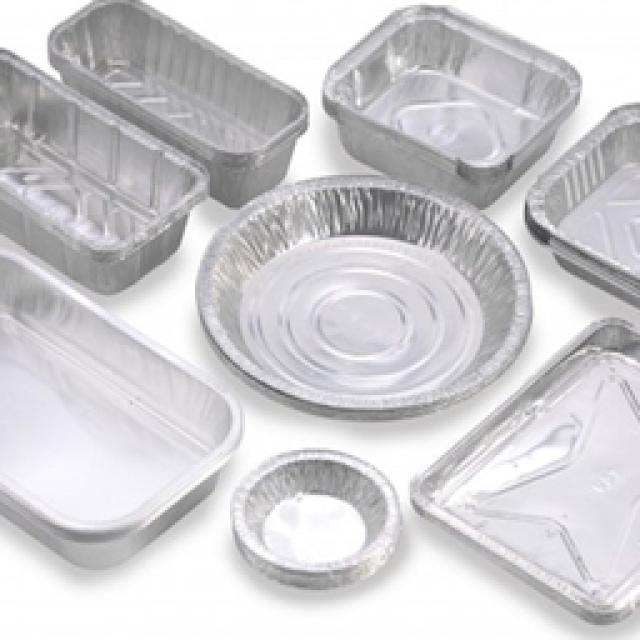alumunium: (0, 0, 580, 562), (410, 320, 638, 618), (230, 450, 400, 588), (525, 105, 638, 302)
